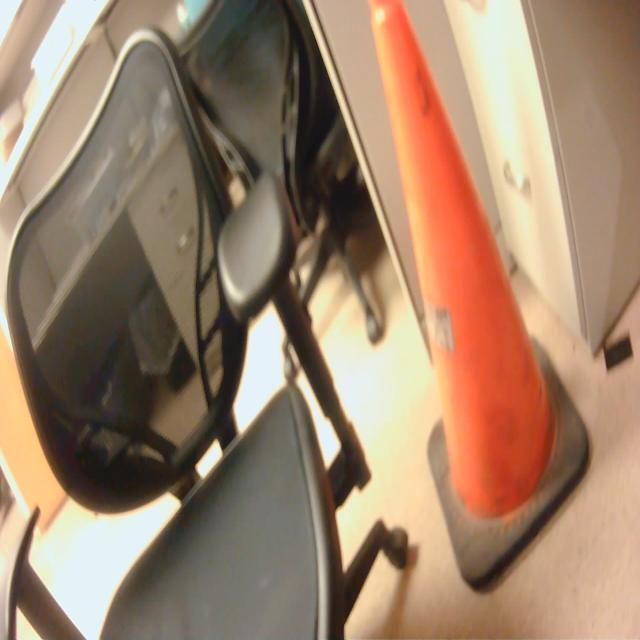traffic cone: (364, 2, 597, 597)
